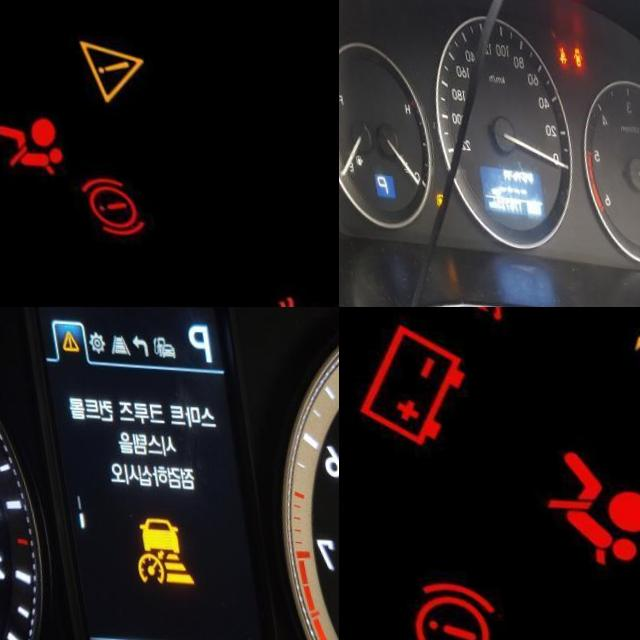Doors: (566, 42, 577, 61)
